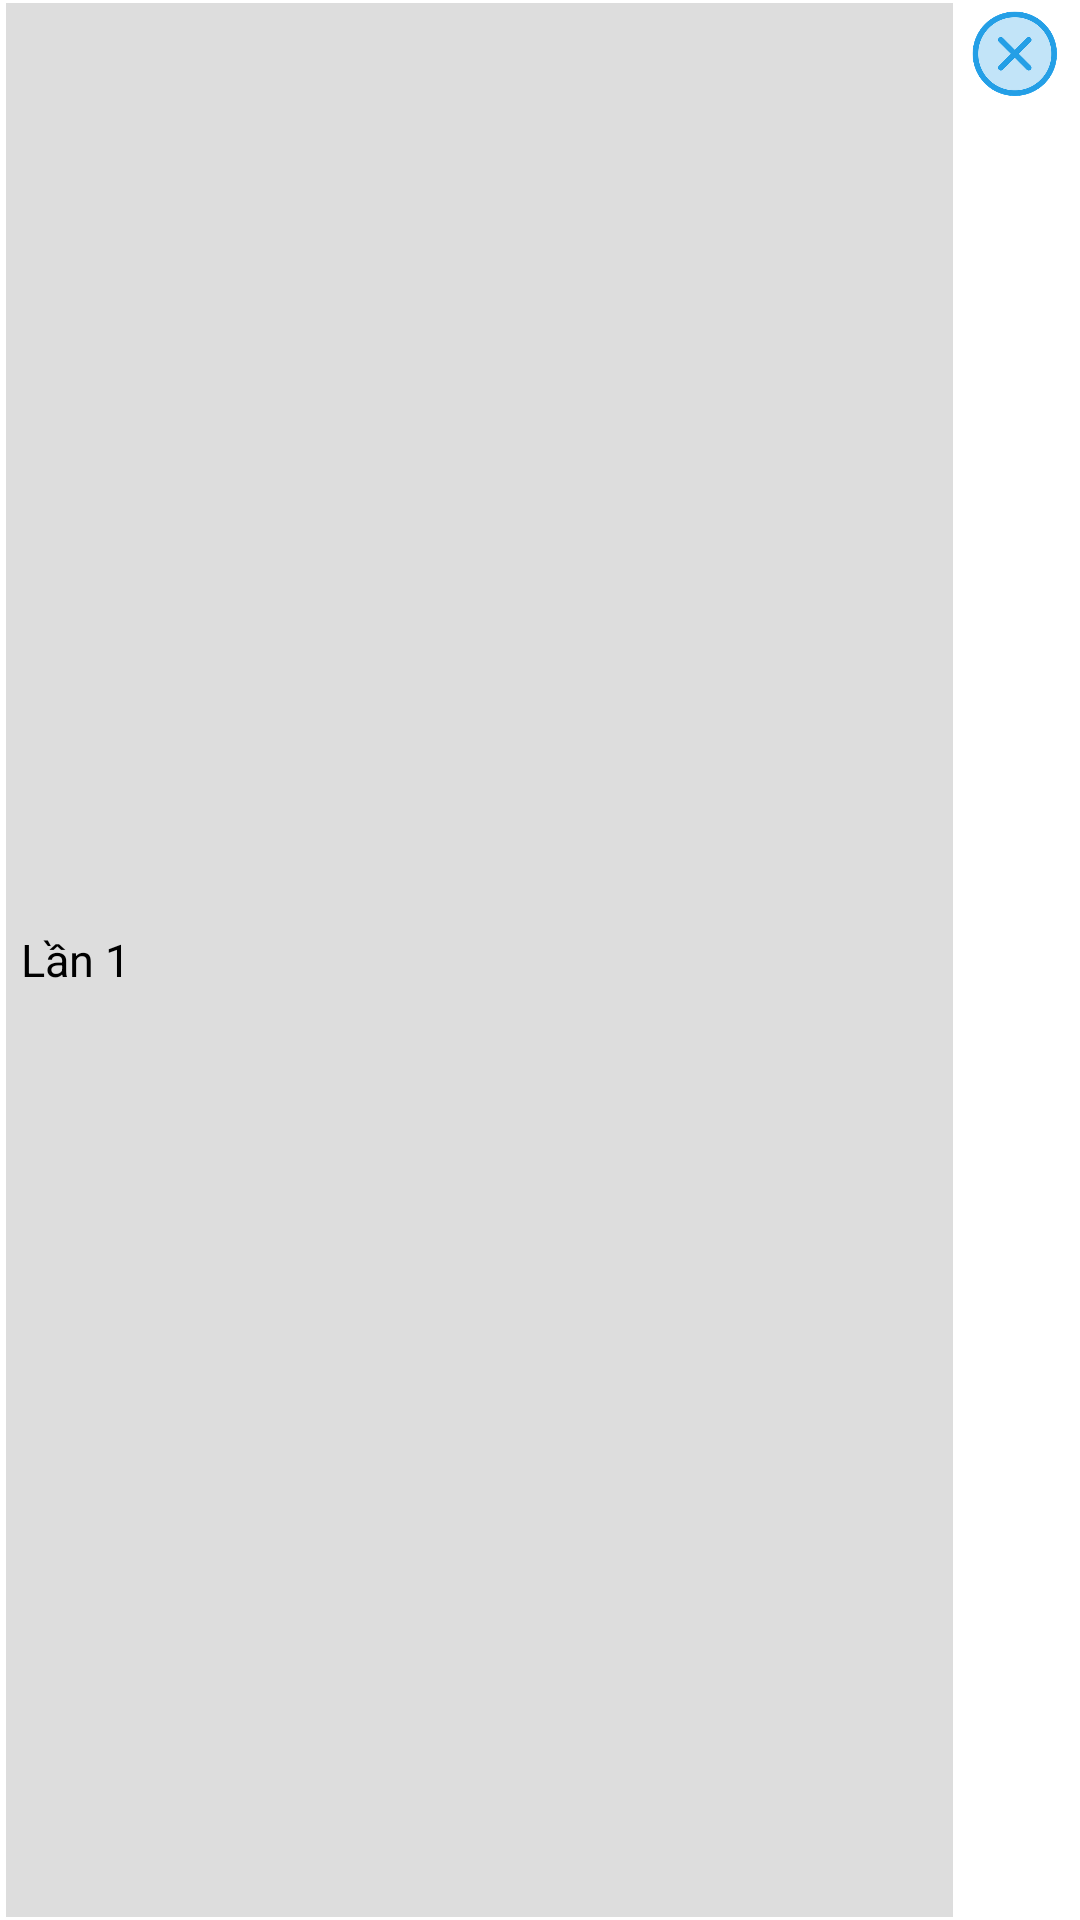

Icons on this 1080px x 1920px Android screen, each with its box as bbox(x1, y1, x2, y2):
cancelicon: bbox(972, 11, 1057, 96)
